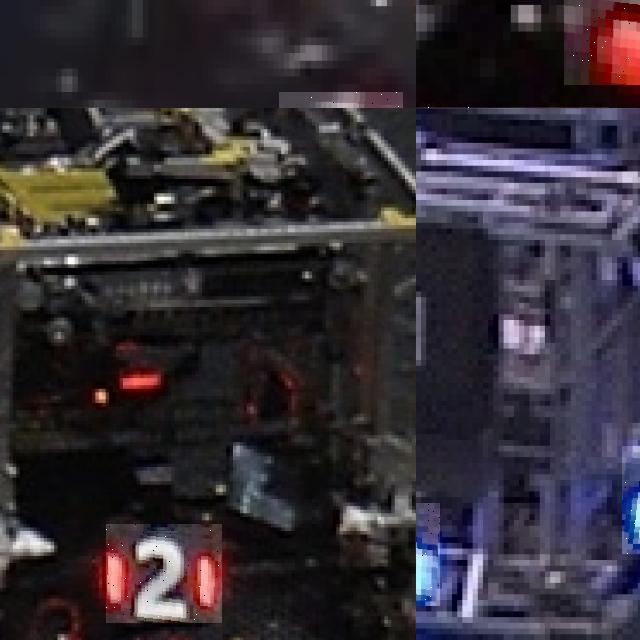B2: (416, 503, 441, 606), (622, 445, 640, 554)
R2: (106, 524, 222, 623)
R5: (564, 0, 640, 84)
